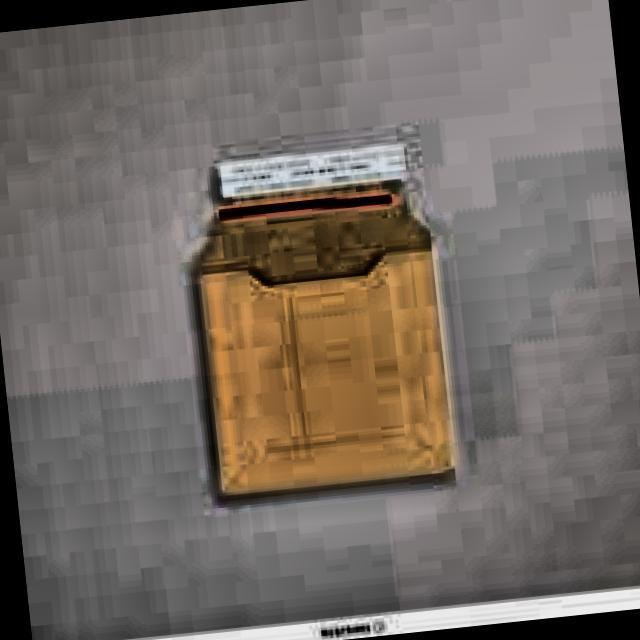cardboard: (189, 181, 458, 498)
